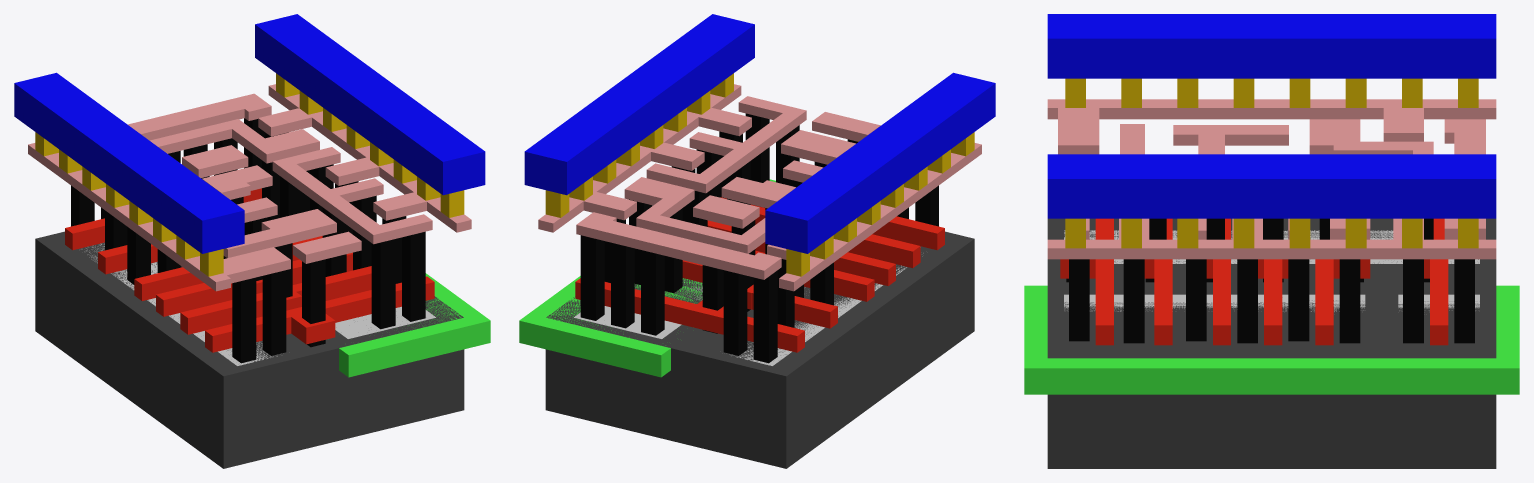
Rendered from sky130_fd_sc_hd__a41o_1.obj.
3 views of the same model, side by side, from view 1: azimuth 30°, elevation 25°; view 2: azimuth 150°, elevation 25°; view 3: azimuth 270°, elevation 25° (orthographic). The views are drawn at different scales.
Parts seen in each view (by area): view 1: subs, metal1, li, licon, poly, mcon, nwell, tap, diff; view 2: subs, metal1, li, licon, poly, nwell, mcon, diff, tap; view 3: metal1, subs, li, nwell, licon, poly, mcon, tap, diff.
Boxes of the visible parts, box(x1,y1,x2,y2) form: subs: box(35, 231, 464, 468); metal1: box(14, 14, 485, 253); li: box(28, 84, 471, 291); licon: box(71, 118, 425, 363); poly: box(65, 188, 434, 352); mcon: box(35, 73, 464, 276); nwell: box(339, 273, 490, 377); tap: box(335, 306, 435, 338); diff: box(81, 243, 277, 365); subs: box(545, 231, 974, 468); metal1: box(524, 14, 995, 253); li: box(538, 84, 981, 291); licon: box(580, 113, 938, 363); poly: box(575, 197, 944, 352); nwell: box(519, 179, 775, 377); mcon: box(545, 73, 974, 276); diff: box(729, 253, 923, 365); tap: box(574, 280, 702, 338); metal1: box(1047, 14, 1496, 218); subs: box(1047, 218, 1496, 468); li: box(1047, 99, 1496, 259); nwell: box(1024, 285, 1519, 394); licon: box(1066, 218, 1474, 343); poly: box(1060, 218, 1448, 345); mcon: box(1065, 78, 1478, 248); tap: box(1064, 294, 1479, 311); diff: box(1064, 230, 1479, 263).
Bounding box in the file's own units: 3.2 × 2.74 × 4.06.
